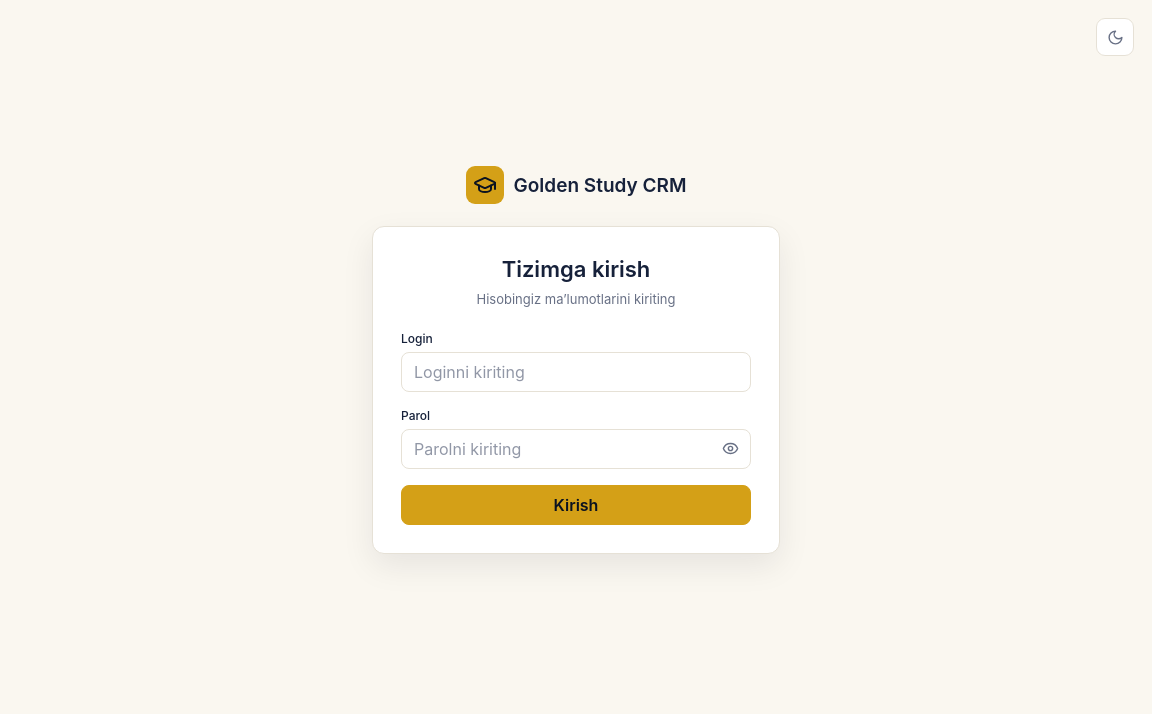
mock-авторизация › filters students, clears search and shows an empty state
Type "admin" into the field labelled "Login".
click(576, 372); type("admin")  # box x1=401 y1=352 x2=751 y2=392
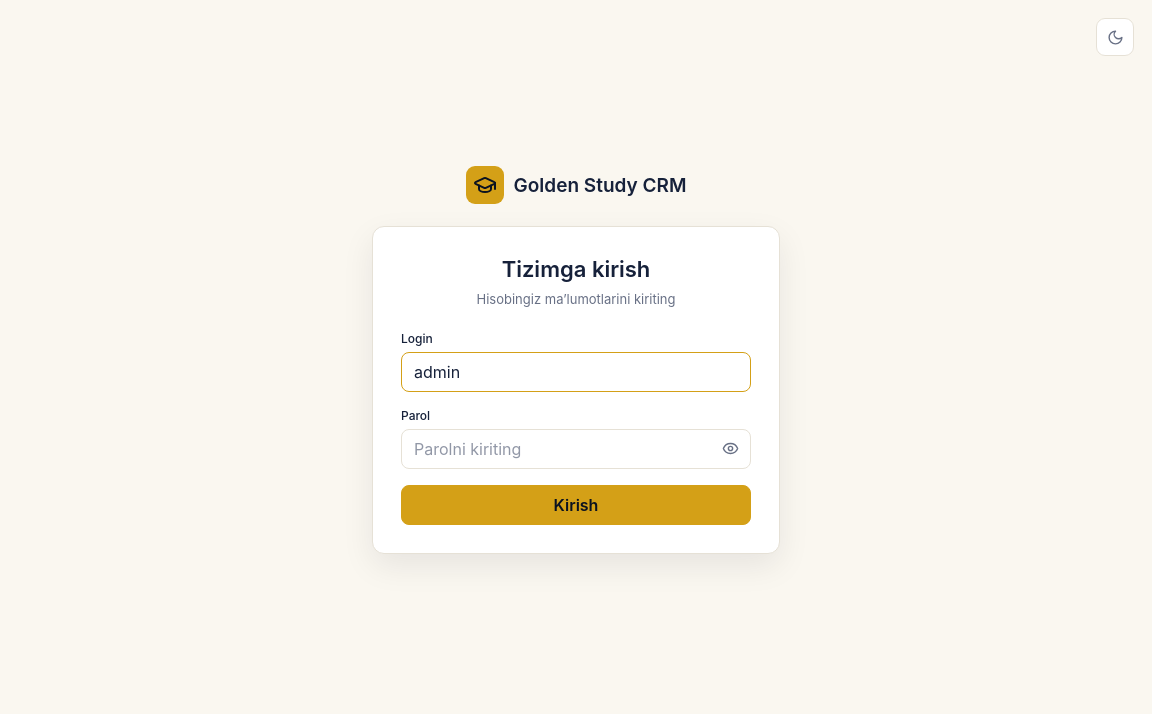
Type "admin123" into the password field labelled "Parol".
click(576, 449); type("admin123")  # box x1=401 y1=429 x2=751 y2=469
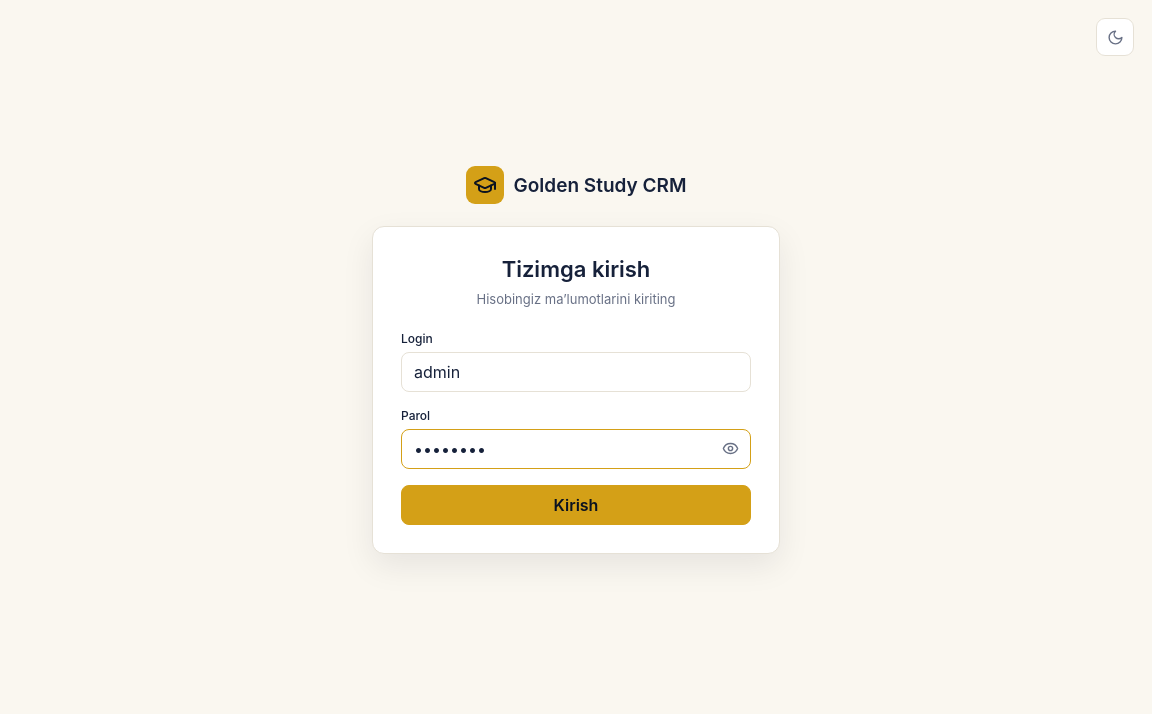
Click the button "Kirish".
click(576, 505)  # box x1=401 y1=485 x2=751 y2=525
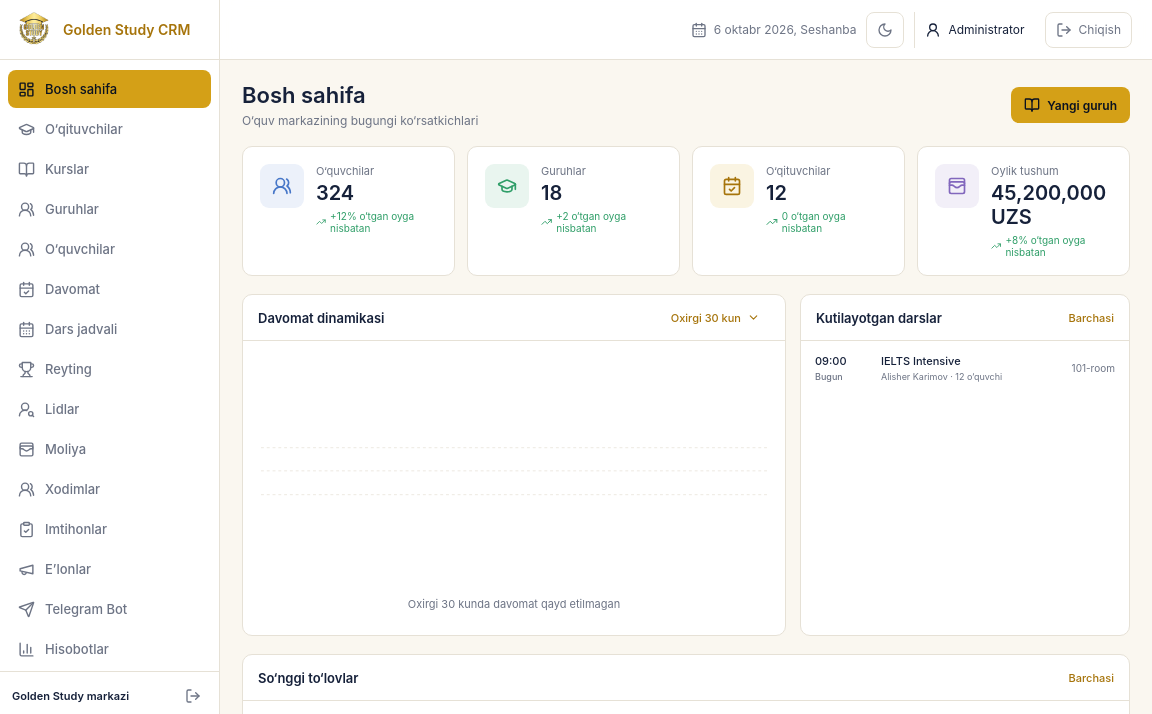
Click the link "O‘quvchilar".
click(66, 249)  # box x1=18 y1=240 x2=115 y2=258
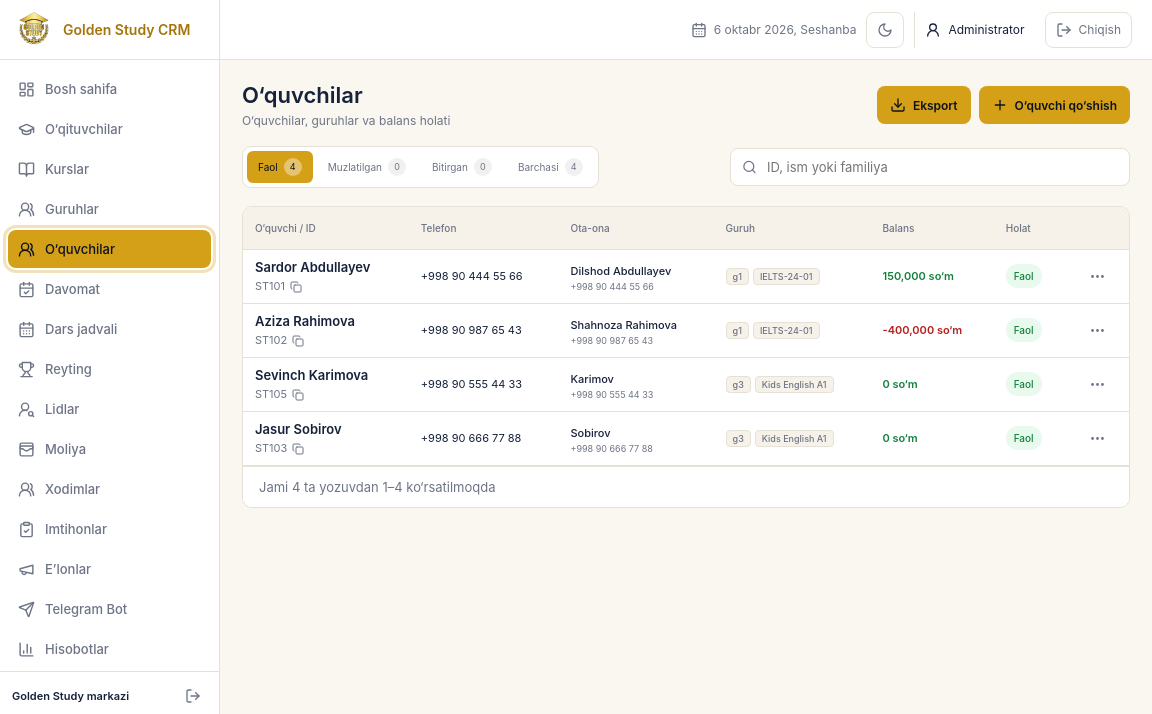
Expected: the text "ST101" is shown, x1=255 y1=281 x2=285 y2=292
Type "topilmadi" into the search field named "O‘quvchi qidirish".
click(941, 167); type("topilmadi")  # box x1=765 y1=158 x2=1118 y2=176
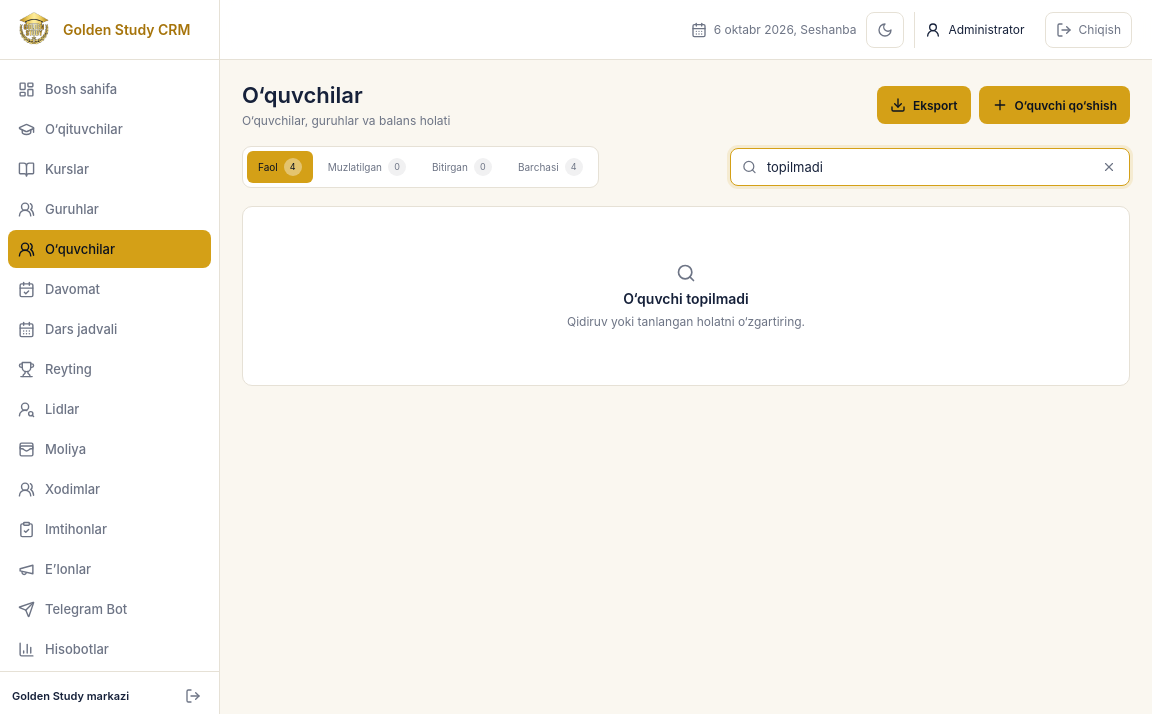
Expected: the text "O‘quvchi topilmadi" is shown, x1=623 y1=290 x2=749 y2=307
Click the button named "Qidiruvni tozalash".
click(1109, 167)  # box x1=1093 y1=151 x2=1125 y2=183
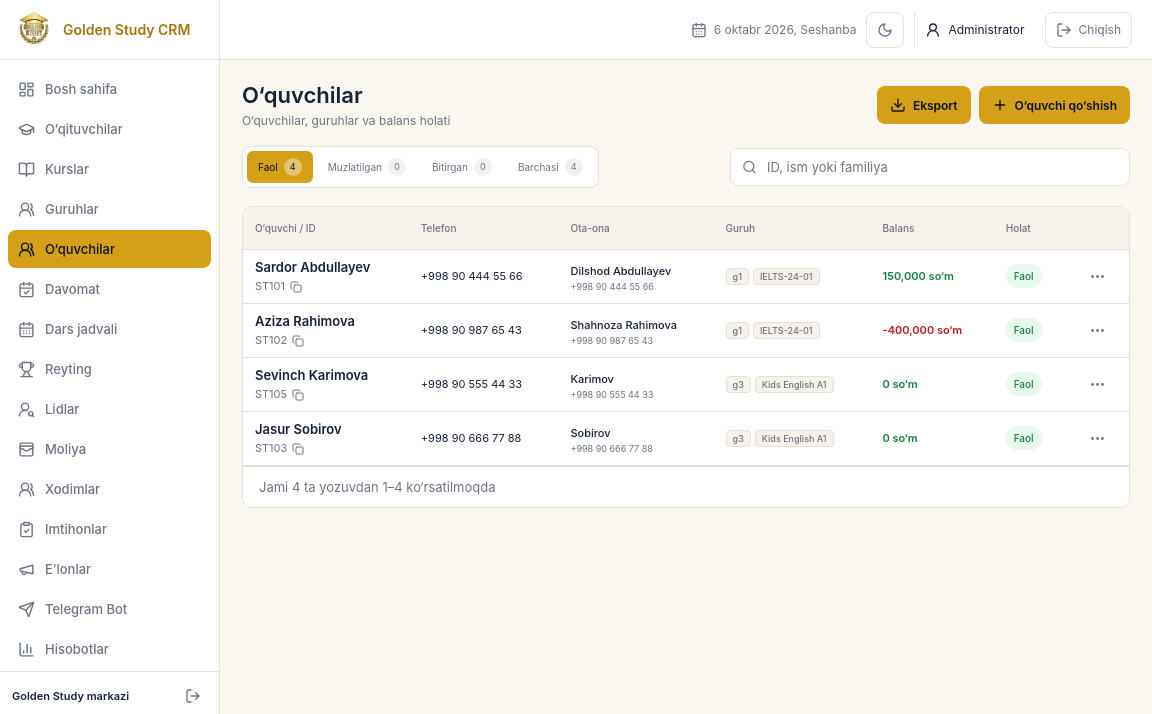
Expected: the text "ST101" is shown, x1=255 y1=281 x2=285 y2=292
